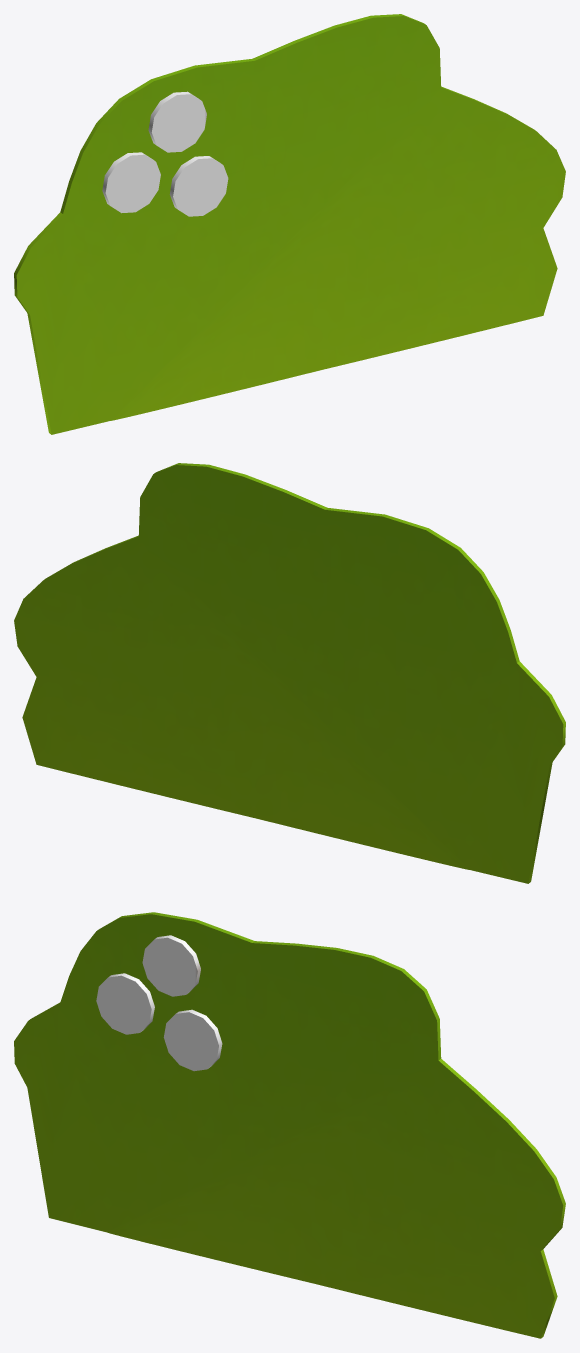
File: obj-shrub3.FBX
3 renders of one model, top to bottom at view 1: azimuth 30°, elevation 25°; view 2: azimuth 150°, elevation 25°; view 3: azimuth 330°, elevation 25°, orthographic.
Visible parts, largest first — view 1: obj-shrub3; view 2: obj-shrub3; view 3: obj-shrub3.
Part boxes in pixels (bbox=[...]): obj-shrub3: bbox=[14, 14, 565, 434]; obj-shrub3: bbox=[14, 463, 565, 883]; obj-shrub3: bbox=[14, 912, 565, 1338].
Size of the model in its own units: 5.1 by 3.01 by 0.0964.
